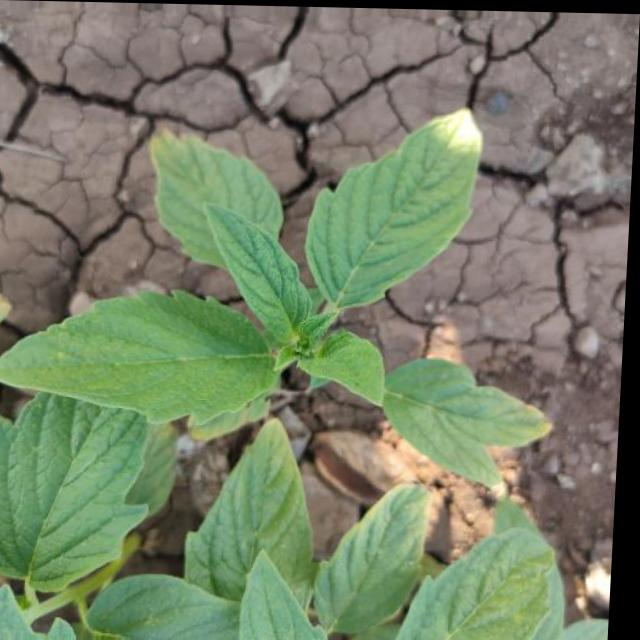crop: (0, 73, 632, 503)
